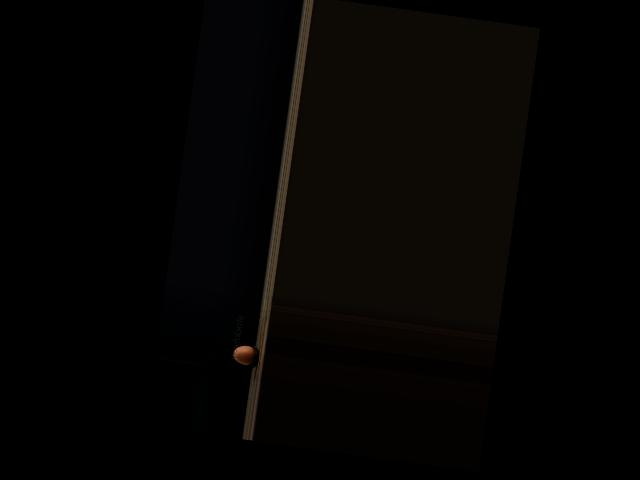egg: (232, 344, 255, 366)
